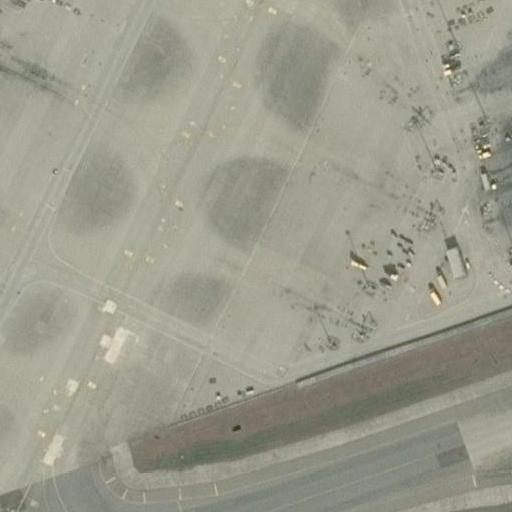Aircraft: (3, 0, 123, 6)
